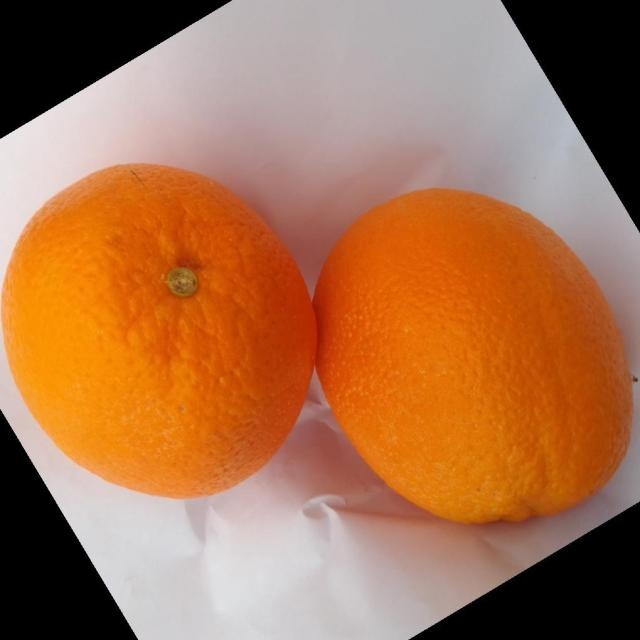agrume: (311, 186, 634, 525), (1, 161, 318, 499)
